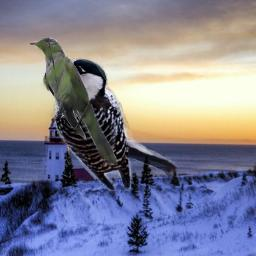Cuckoo: (30, 37, 121, 166)
Woodpecker: (48, 53, 179, 191)
